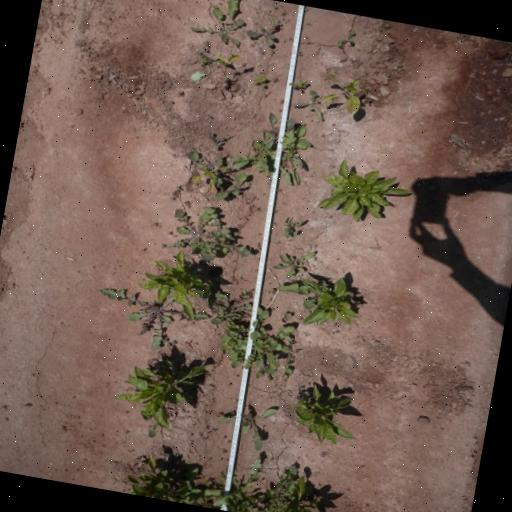plant: (314, 154, 416, 229), (111, 356, 205, 428), (135, 248, 201, 319), (289, 383, 361, 443), (119, 448, 191, 504), (302, 274, 362, 324), (318, 70, 372, 117), (287, 471, 344, 512), (191, 165, 226, 189), (214, 51, 242, 75)
weed: (96, 284, 212, 351), (183, 442, 264, 512), (166, 205, 253, 261), (217, 319, 295, 374), (225, 139, 293, 187), (215, 405, 279, 450), (188, 7, 247, 47), (205, 285, 262, 326), (255, 456, 296, 512), (280, 120, 314, 185), (270, 247, 319, 279), (261, 110, 297, 149), (241, 12, 279, 46), (212, 171, 253, 201), (276, 334, 304, 377), (290, 88, 325, 120), (184, 147, 224, 168), (189, 49, 213, 82), (279, 214, 306, 240), (201, 130, 228, 150), (335, 27, 357, 49), (287, 74, 308, 92), (294, 384, 312, 402), (252, 366, 272, 382), (252, 72, 268, 87), (280, 308, 294, 324), (181, 197, 193, 208), (165, 337, 176, 347), (384, 72, 394, 81), (250, 204, 260, 212), (296, 48, 304, 58), (267, 286, 276, 294), (270, 74, 279, 82), (256, 240, 262, 250), (176, 88, 183, 95), (331, 267, 339, 273), (166, 228, 172, 236), (382, 54, 390, 60), (396, 62, 404, 68), (304, 20, 312, 26), (123, 428, 130, 434), (384, 22, 390, 29), (216, 412, 222, 418), (332, 320, 338, 326), (160, 242, 166, 248), (168, 194, 174, 200), (214, 62, 220, 68), (211, 4, 218, 8), (174, 184, 178, 190), (162, 338, 167, 342), (378, 35, 382, 40), (386, 28, 390, 32)
